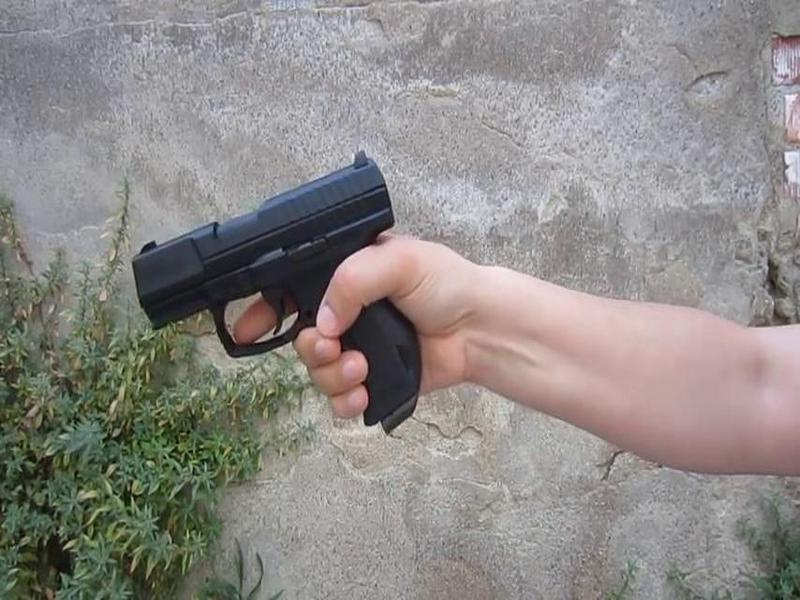Pistola: (115, 136, 426, 442)
